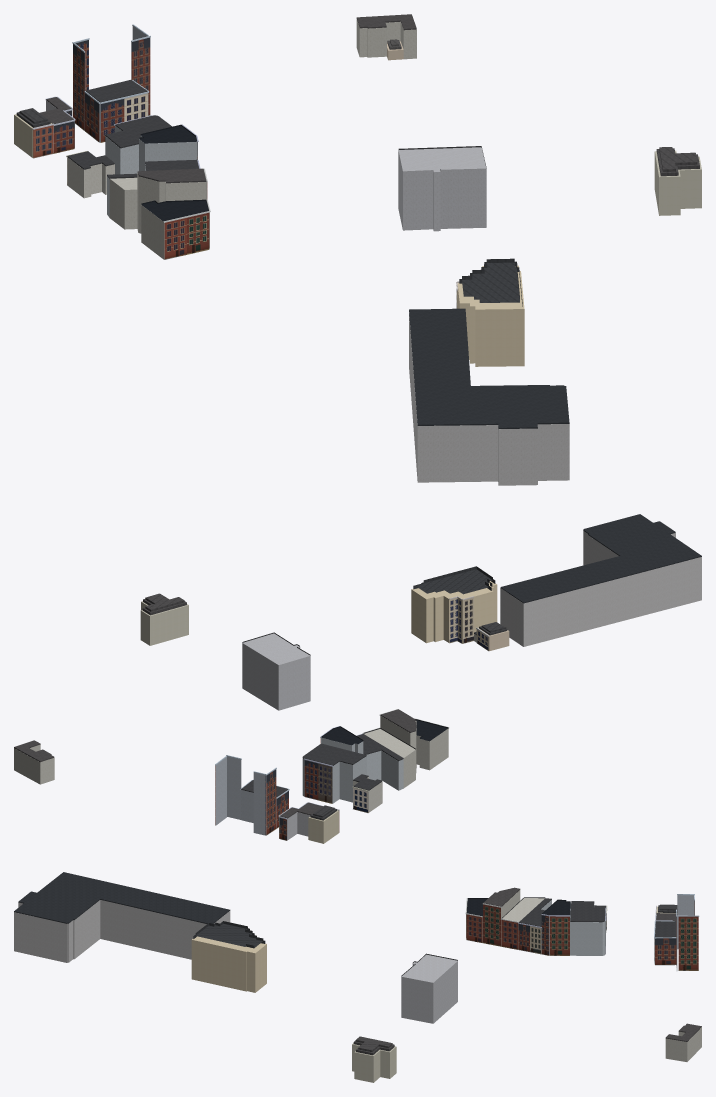
3 renders of one model, top to bottom at view 1: azimuth 30°, elevation 25°; view 2: azimuth 150°, elevation 25°; view 3: azimuth 270°, elevation 25°, orthographic. The views are drawn at different scales.
Visible parts, largest first — view 1: bldg_1186863956_roof, bldg_1186863956, bldg_181181157, bldg_181346898, bldg_181346898_roof_b, bldg_181181166, bldg_517257369_facade0, bldg_517306185, bldg_517257371, bldg_517315723, bldg_517168317_facade1, bldg_517246216 (+10 smaller); view 2: bldg_1186863956, bldg_1186863956_roof, bldg_181181157, bldg_181346898, bldg_181181166, bldg_181346898_roof_b, bldg_517246217, bldg_517246217_facade0, bldg_517315722, bldg_517315723, bldg_517306185, bldg_517257369 (+8 smaller); view 3: bldg_1186863956, bldg_1186863956_roof, bldg_181346898, bldg_181181157, bldg_181181166, bldg_517246217, bldg_517168319_facade1, bldg_181346898_roof_b, bldg_517315720_facade1, bldg_517306185, bldg_517257371_facade0, bldg_517246217_roof (+12 smaller).
Boxes of the visible parts, <box> form: bldg_1186863956_roof: <box>409,308,569,428</box>; bldg_1186863956: <box>409,312,569,485</box>; bldg_181181157: <box>398,147,486,231</box>; bldg_181346898: <box>457,265,524,366</box>; bldg_181346898_roof_b: <box>462,258,519,302</box>; bldg_181181166: <box>654,150,701,215</box>; bldg_517257369_facade0: <box>163,211,210,259</box>; bldg_517306185: <box>356,19,416,59</box>; bldg_517257371: <box>137,172,206,233</box>; bldg_517315723: <box>109,177,137,229</box>; bldg_517168317_facade1: <box>100,91,148,142</box>; bldg_517246216: <box>67,157,114,198</box>; bldg_1186863956: <box>500,531,701,646</box>; bldg_1186863956_roof: <box>500,514,701,603</box>; bldg_181181157: <box>242,633,310,710</box>; bldg_181346898: <box>411,581,497,643</box>; bldg_181181166: <box>140,601,188,645</box>; bldg_181346898_roof_b: <box>416,566,492,594</box>; bldg_517246217: <box>302,756,366,803</box>; bldg_517246217_facade0: <box>304,758,332,803</box>; bldg_517315722: <box>366,750,403,790</box>; bldg_517315723: <box>364,729,415,788</box>; bldg_517306185: <box>14,744,54,784</box>; bldg_517257369: <box>416,728,448,770</box>; bldg_1186863956: <box>14,900,230,962</box>; bldg_1186863956_roof: <box>14,872,230,923</box>; bldg_181346898: <box>191,936,266,992</box>; bldg_181181157: <box>401,954,457,1023</box>; bldg_181181166: <box>352,1043,396,1082</box>; bldg_517246217: <box>570,903,605,955</box>; bldg_517168319_facade1: <box>678,915,699,970</box>; bldg_181346898_roof_b: <box>195,921,263,948</box>; bldg_517315720_facade1: <box>549,915,570,955</box>; bldg_517306185: <box>665,1027,701,1061</box>; bldg_517257371_facade0: <box>482,903,501,946</box>; bldg_517246217_roof: <box>570,901,605,922</box>.
Size of the model in its own units: 174 by 26.23 by 296.
Materials: 35 (19 with a texture image).
